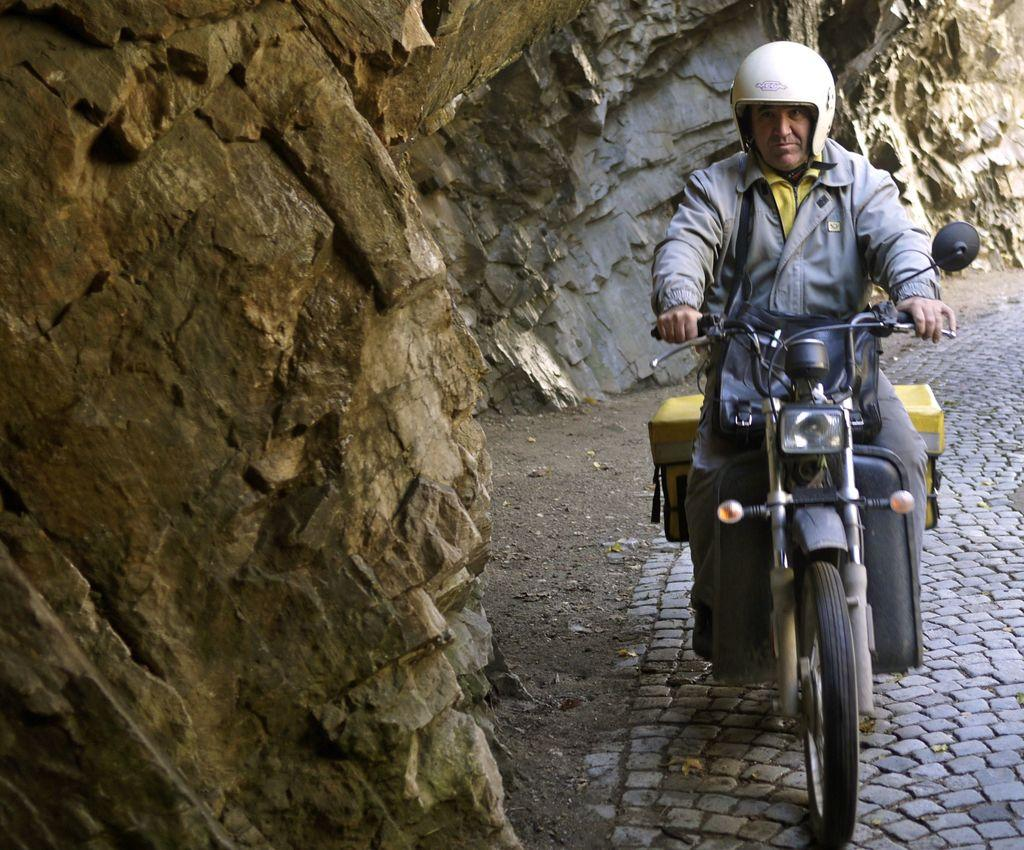helmet: (731, 40, 837, 166)
